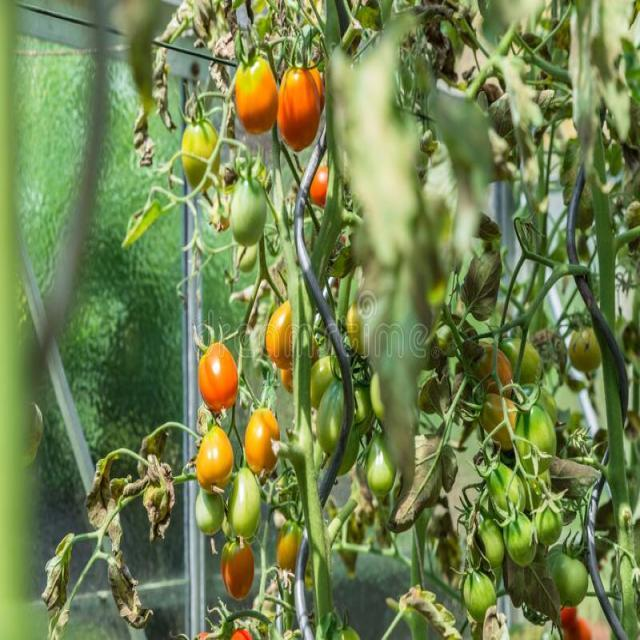sari: (238, 56, 332, 152)
